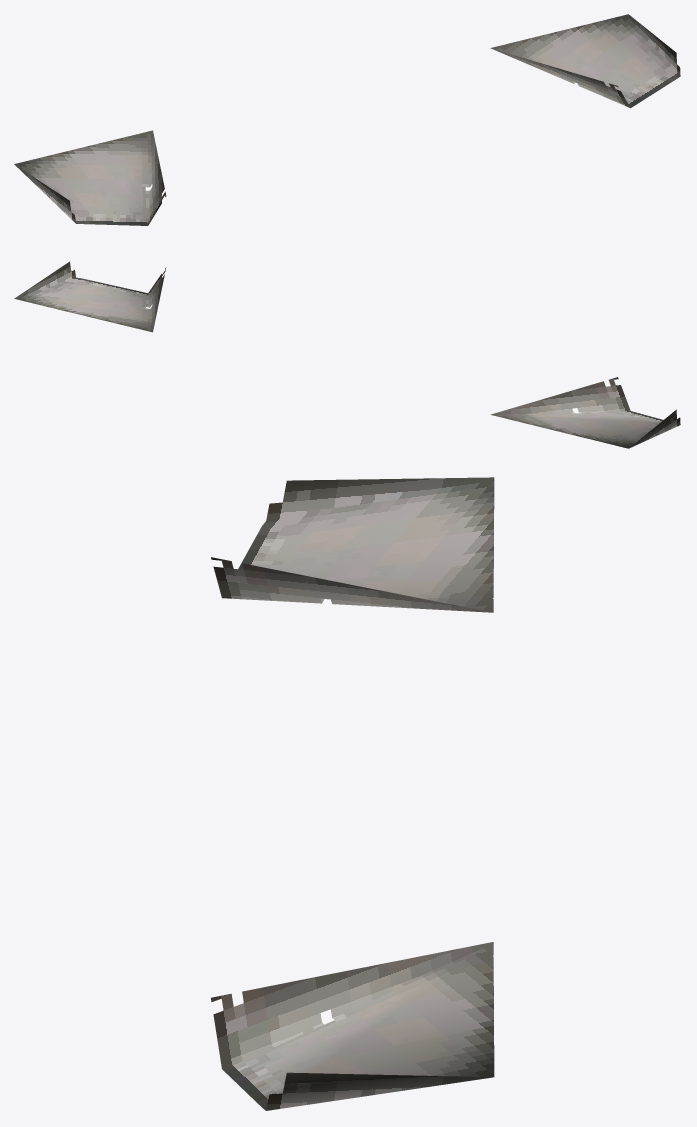
The model's file is hutt_fighter_heavy_missile_pod_s01_l2.fbx.
The picture shows the model from 3 angles, top to bottom: view 1: azimuth 30°, elevation 25°; view 2: azimuth 150°, elevation 25°; view 3: azimuth 270°, elevation 25°; orthographic projection. The views are drawn at different scales.
Visible parts, largest first — view 1: mesh_node; view 2: mesh_node; view 3: mesh_node.
Part boxes in pixels (x1,y1,x2,y2): mesh_node: [14, 14, 680, 225]; mesh_node: [14, 261, 680, 448]; mesh_node: [211, 477, 494, 1110].
Bounding box in the file's own units: 17.01 × 0.7774 × 3.5.
Materials: 1 (1 with a texture image).
